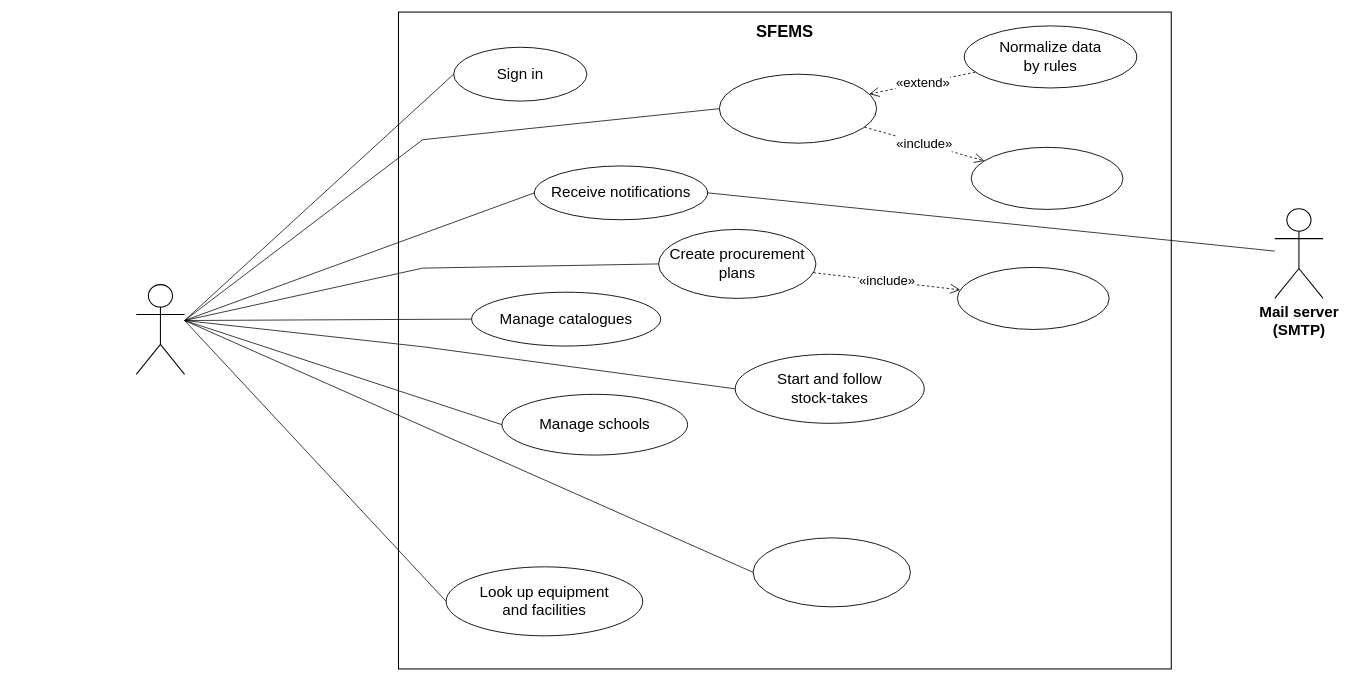
The diagram is 1351 pixels wide and 682 high, and some of its shapes have lost their labels. The shapes that lost their labels are listed below. From the top down, each one's centre as x and y in pixels, then its label:
At [798,108]: "Import initial data".
At [1046,178]: "Check file data".
At [1033,298]: "Select approved proposals".
At [160,329]: "DOET Specialist".
At [831,572]: "View reports and statistics".
